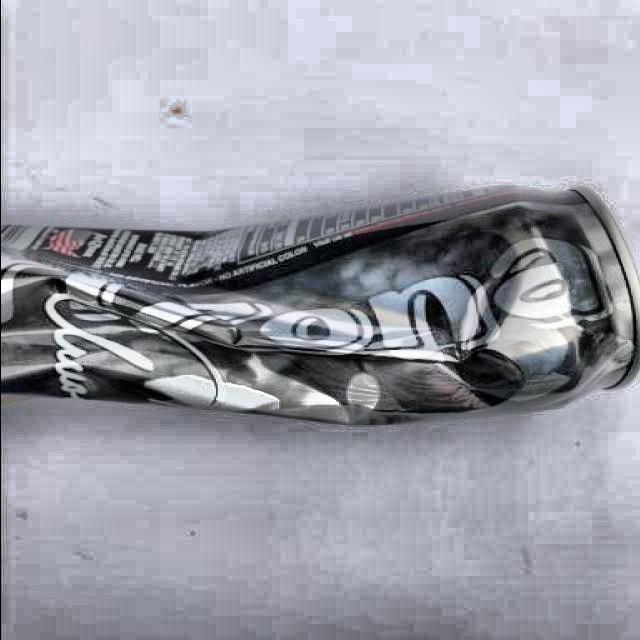metal: (0, 186, 640, 429)
